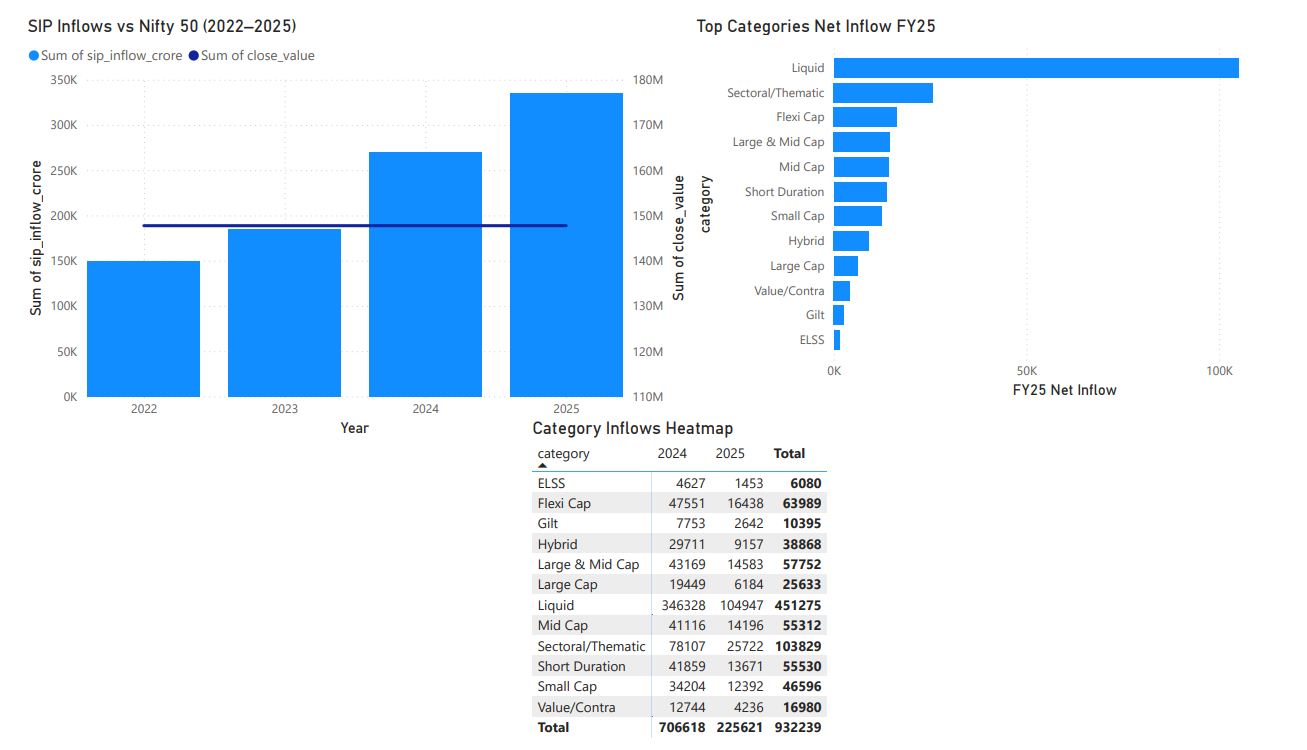

Layout of this report page (visuals, bound fields, positions):
{"tool":"powerbi","page":{"name":" SIP & Market Trends","canvas":[1280,720],"ordinal":3},"visuals":[{"type":"lineClusteredColumnComboChart","title":"SIP Inflows vs Nifty 50 (2022–2025)","fields":{"Category":["clean_monthly_sip_inflows.month.Variation.Date Hierarchy.Year","clean_monthly_sip_inflows.month.Variation.Date Hierarchy.Quarter","clean_monthly_sip_inflows.month.Variation.Date Hierarchy.Month","clean_monthly_sip_inflows.month.Variation.Date Hierarchy.Day"],"Y":["Sum(clean_monthly_sip_inflows.sip_inflow_crore)"],"Y2":["Sum(clean_benchmark_indices.close_value)"]},"box":[9.6,0,657.3,417.2],"z":0},{"type":"pivotTable","title":"Category Inflows Heatmap","fields":{"Rows":["clean_category_inflows.category"],"Columns":["clean_category_inflows.month.Variation.Date Hierarchy.Year","clean_category_inflows.month.Variation.Date Hierarchy.Quarter","clean_category_inflows.month.Variation.Date Hierarchy.Month","clean_category_inflows.month.Variation.Date Hierarchy.Day"],"Values":["Sum(clean_category_inflows.net_inflow_crore)"]},"box":[506.3,395.2,319.7,325.2],"z":1},{"type":"clusteredBarChart","title":"Top Categories Net Inflow FY25","fields":{"Category":["clean_category_inflows.category"],"Y":["KPI_AUM.FY25 Net Inflow"]},"box":[666.9,0,613.4,381.5],"z":2}]}

Visuals, with their boxes in screenshot pixels (x1, y1, x2, y2), scaled from the page's 1280x720 canvas onto the 1307x750 screenshot:
"SIP Inflows vs Nifty 50 (2022–2025)" lineClusteredColumnComboChart: 10 0 681 435
"Category Inflows Heatmap" pivotTable: 517 412 843 749
"Top Categories Net Inflow FY25" clusteredBarChart: 681 0 1306 397
